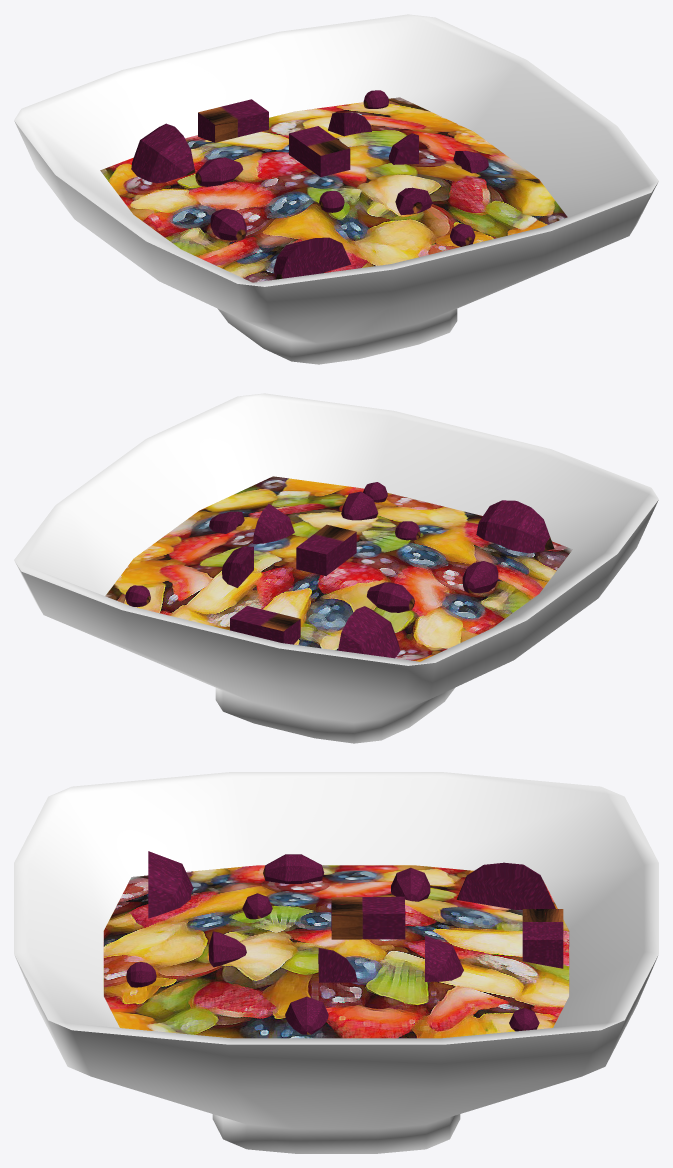
Rendered from fruitSalad.fbx.
The picture shows the model from 3 angles, top to bottom: view 1: azimuth 30°, elevation 25°; view 2: azimuth 150°, elevation 25°; view 3: azimuth 270°, elevation 25°; orthographic projection. The views are drawn at different scales.
Visible parts, largest first — view 1: FruitSalad; view 2: FruitSalad; view 3: FruitSalad.
Part boxes in pixels (left/top/right/bottom): FruitSalad: left=14, top=14, right=658, bottom=364; FruitSalad: left=14, top=393, right=658, bottom=743; FruitSalad: left=14, top=772, right=658, bottom=1153.
Size of the model in its own units: 42.14 by 14.1 by 42.14.
Materials: 8 (8 with a texture image).
